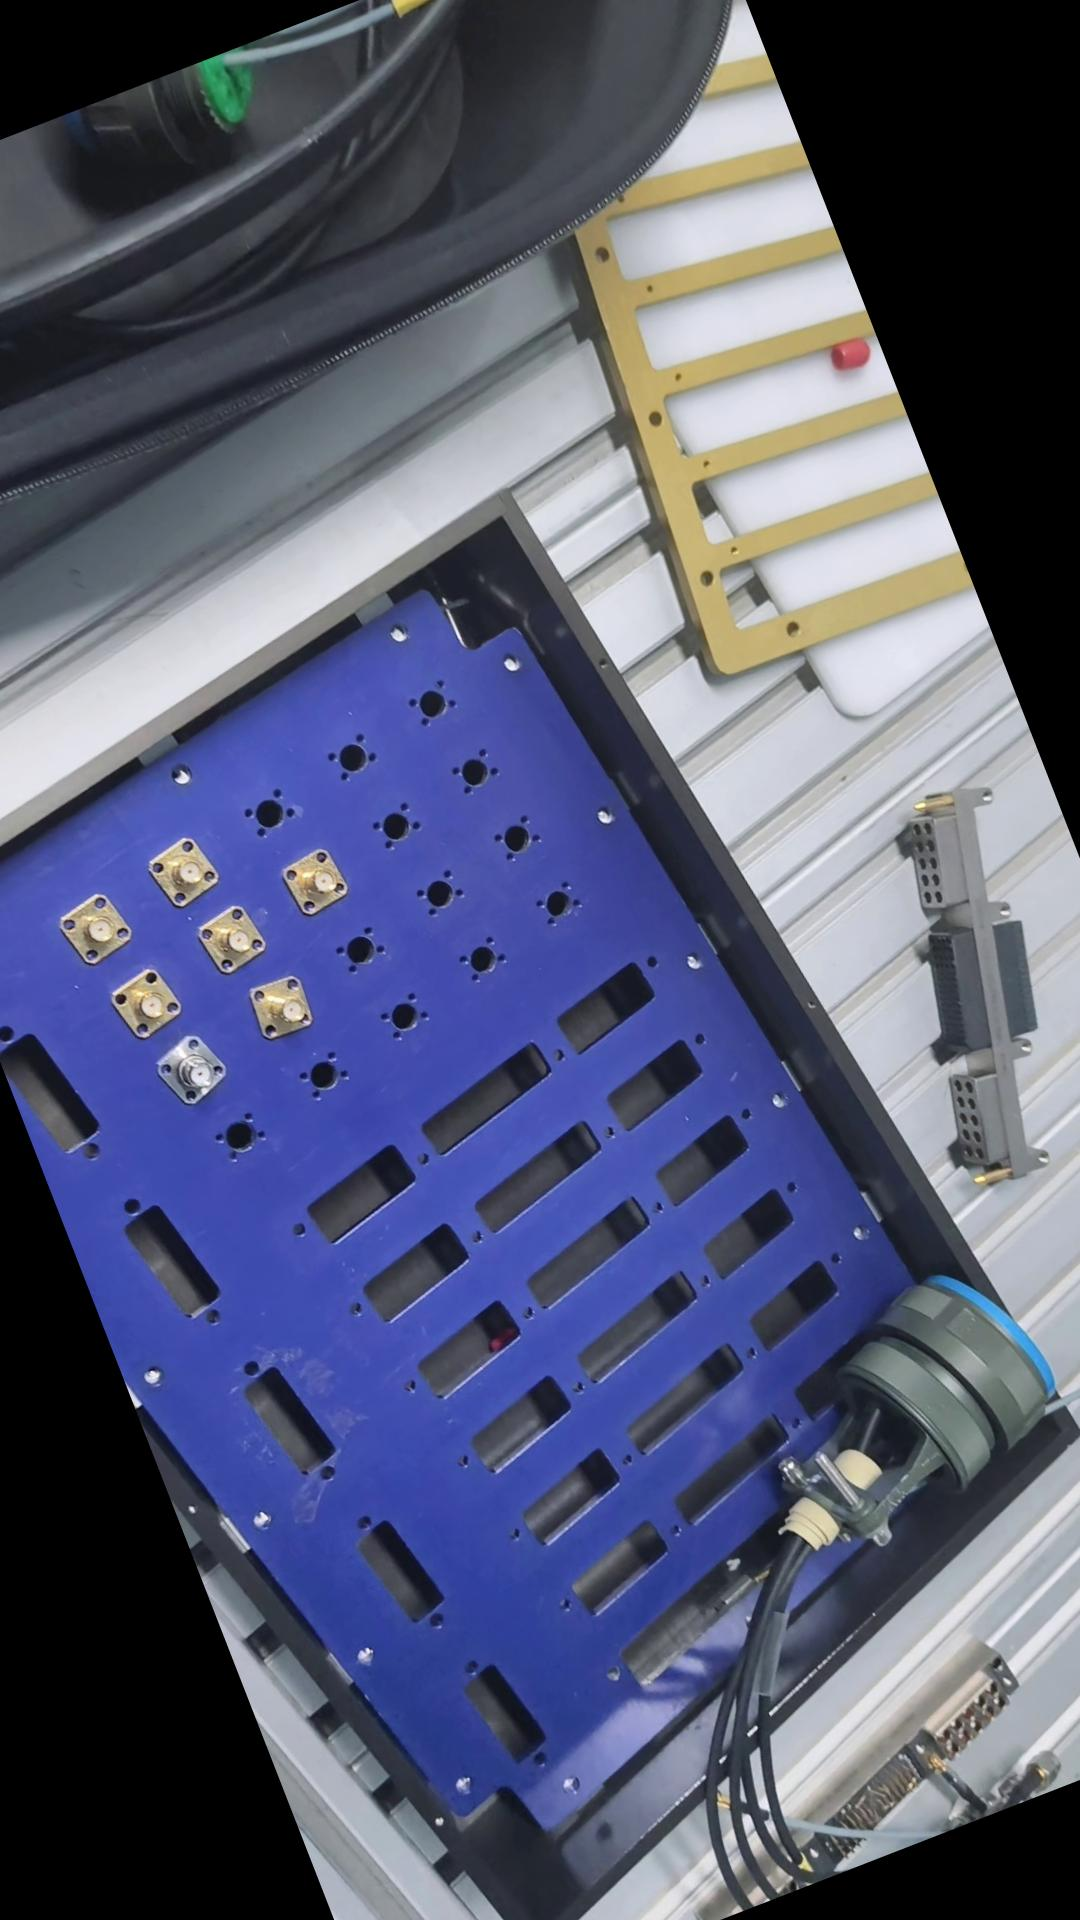SMA: (154, 1039, 247, 1135), (109, 977, 199, 1065), (189, 911, 277, 998), (51, 911, 138, 998), (247, 978, 334, 1062), (142, 849, 224, 932), (276, 856, 357, 935)
